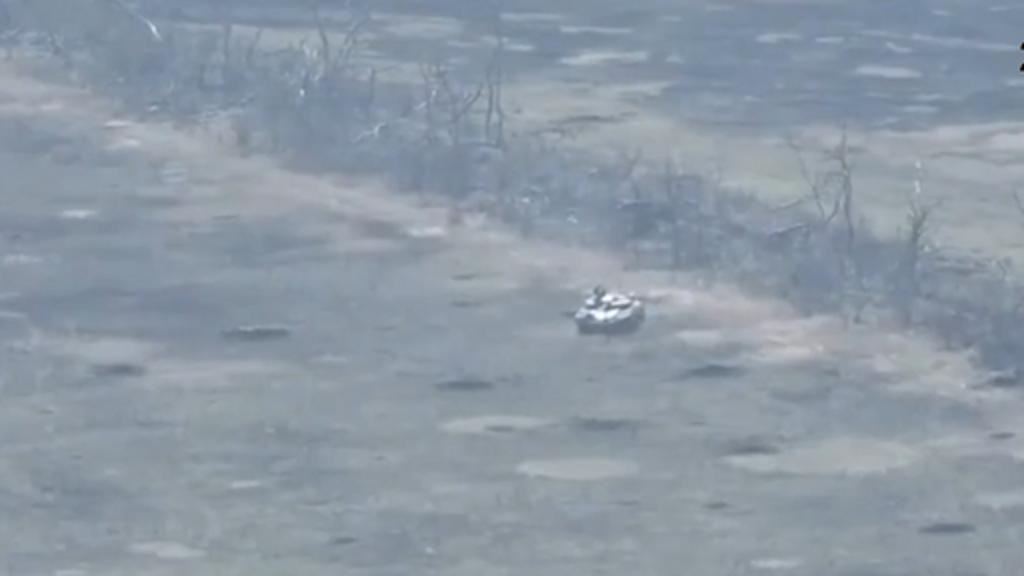TANK: (568, 282, 650, 334)
